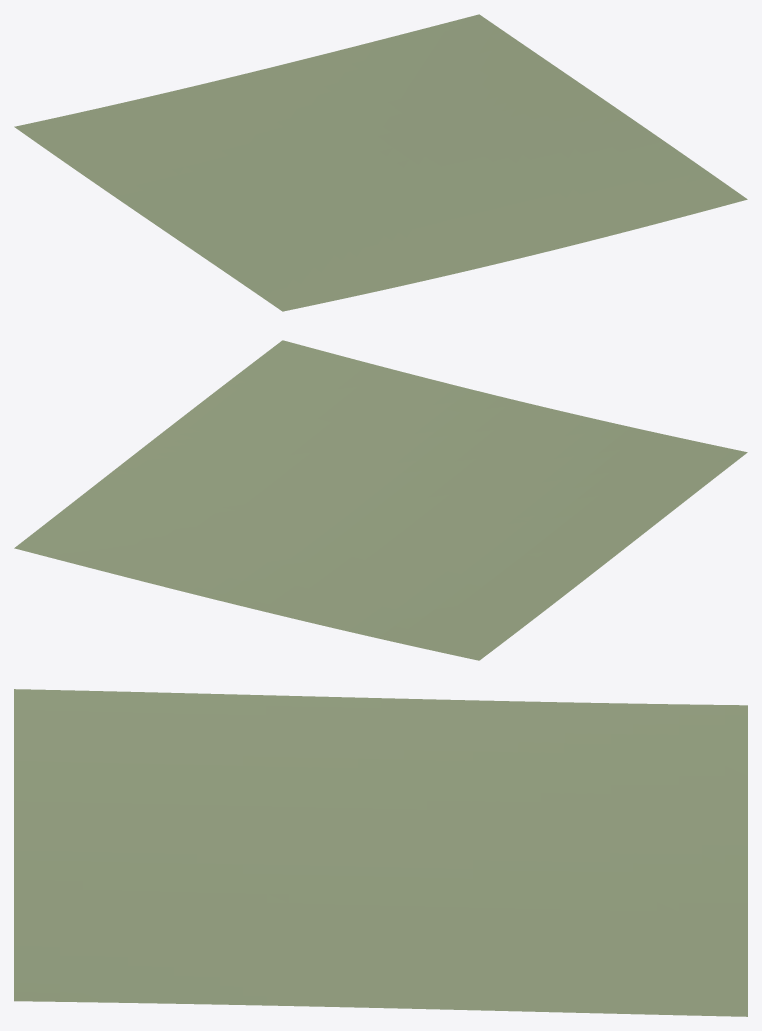
The model's file is expanse-3-22.glb.
3 views of the same model, one above another, from view 1: azimuth 30°, elevation 25°; view 2: azimuth 150°, elevation 25°; view 3: azimuth 270°, elevation 25° (orthographic). The views are drawn at different scales.
Visible parts, largest first — view 1: expanse-3-22; view 2: expanse-3-22; view 3: expanse-3-22.
Boxes of the visible parts, bbox=[...] form: expanse-3-22: bbox=[14, 14, 747, 311]; expanse-3-22: bbox=[14, 340, 747, 660]; expanse-3-22: bbox=[14, 689, 747, 1016].
Size of the model in its own units: 256 by 8 by 256.
